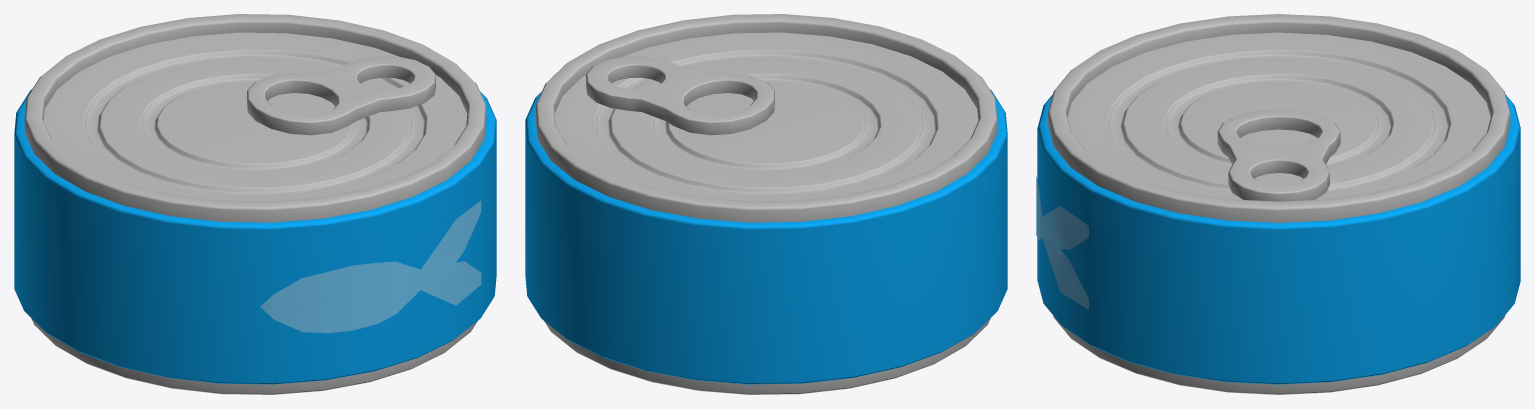
Rendered from Store_11_Canned_Food_2.glb.
3 views of the same model, side by side, from view 1: azimuth 30°, elevation 25°; view 2: azimuth 150°, elevation 25°; view 3: azimuth 270°, elevation 25° (orthographic).
Visible parts, largest first — view 1: Store_11_Canned_Food_2; view 2: Store_11_Canned_Food_2; view 3: Store_11_Canned_Food_2.
Part boxes in pixels (x1,y1,x2,y2): Store_11_Canned_Food_2: (14,14,496,394); Store_11_Canned_Food_2: (525,14,1007,394); Store_11_Canned_Food_2: (1036,14,1520,394).
Size of the model in its own units: 1.09 by 0.4749 by 1.1.
Materials: 1 (1 with a texture image).
